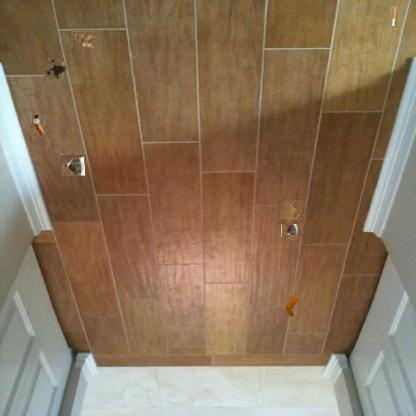dirty: (60, 154, 86, 176), (72, 30, 98, 48), (281, 293, 299, 317), (283, 220, 301, 239), (32, 114, 46, 136), (390, 6, 398, 28)
liquid: (278, 200, 302, 224), (47, 60, 65, 78)
